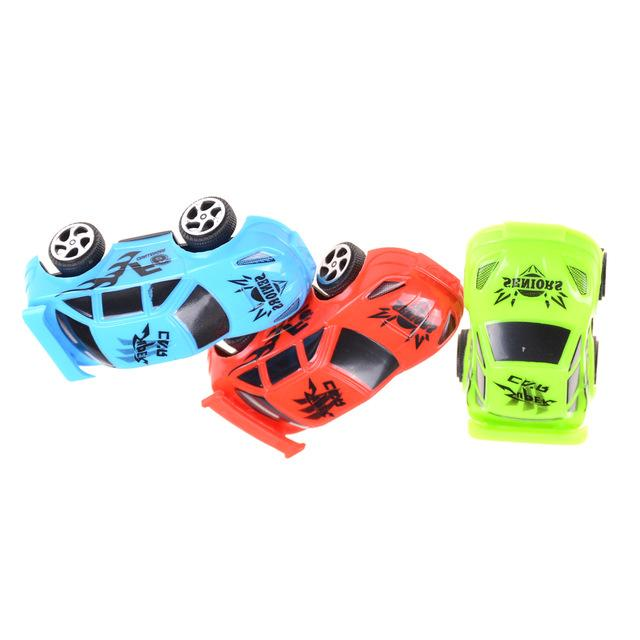Car: (200, 241, 464, 460), (21, 196, 317, 383), (455, 222, 607, 447)
